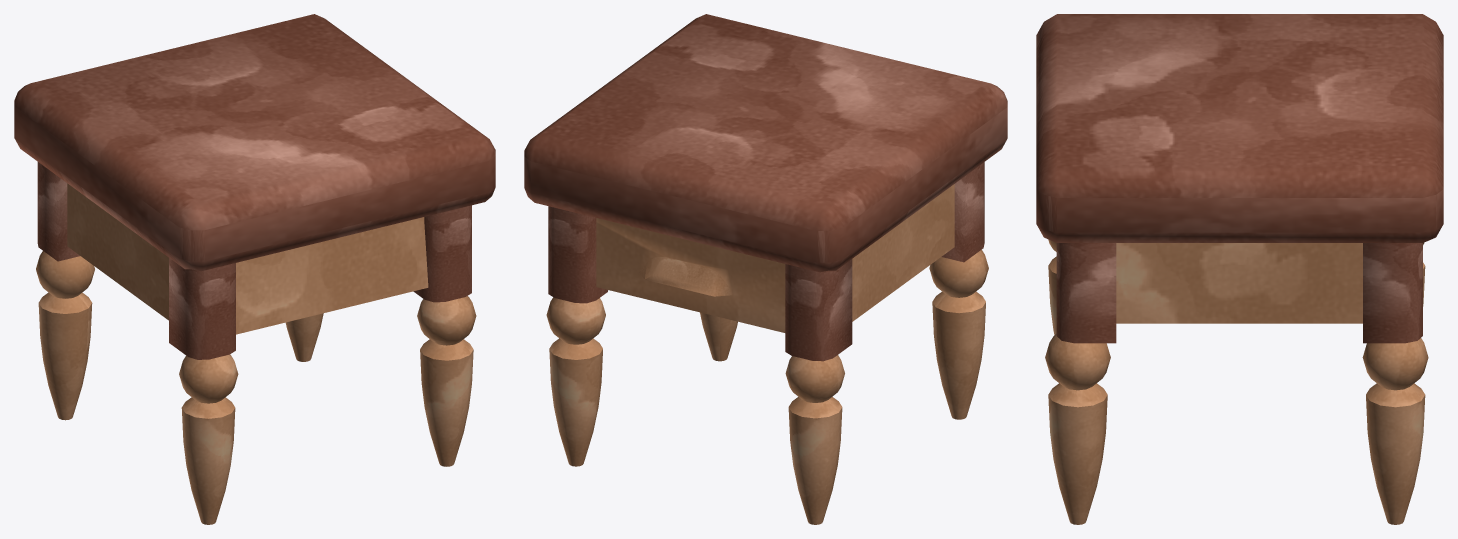
The model's file is SM_Little_Table.fbx.
The picture shows the model from 3 angles, left to right: view 1: azimuth 30°, elevation 25°; view 2: azimuth 150°, elevation 25°; view 3: azimuth 270°, elevation 25°; orthographic projection. The views are drawn at different scales.
Parts seen in each view (by area): view 1: SM_Little_Table; view 2: SM_Little_Table; view 3: SM_Little_Table.
Part boxes in pixels (x1=…): SM_Little_Table: x1=14, y1=14, x2=495, y2=524; SM_Little_Table: x1=524, y1=14, x2=1007, y2=524; SM_Little_Table: x1=1036, y1=14, x2=1443, y2=524.
Size of the model in its own units: 99.19 by 98.9 by 99.7.
Materials: 1 (1 with a texture image).
